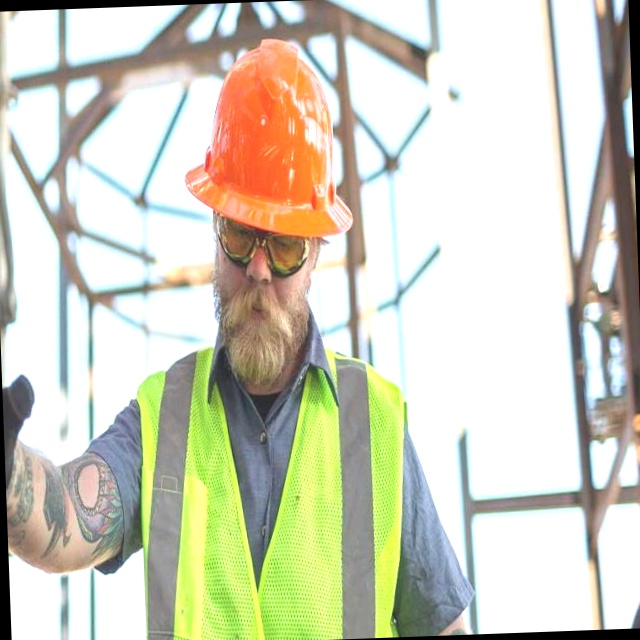goggles: (314, 216, 448, 279)
helmet: (272, 41, 450, 243)
vest: (227, 337, 517, 640)
